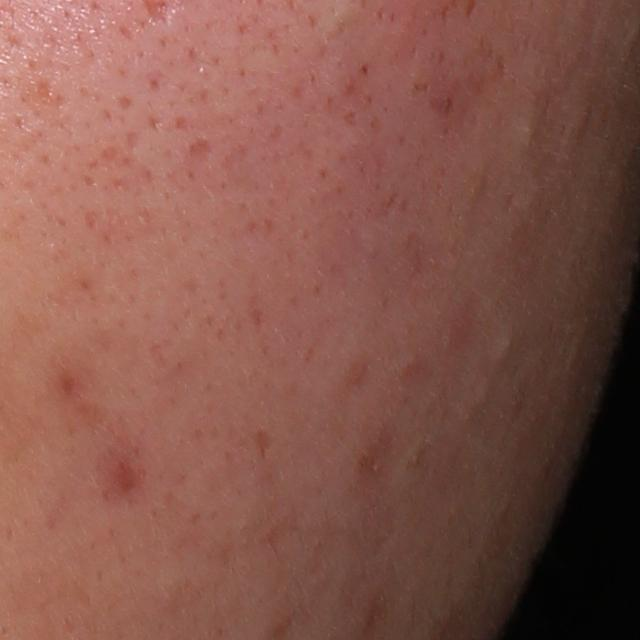atrophic_scar: (186, 137, 220, 164)
comedo: (515, 120, 546, 147), (495, 334, 513, 359)
